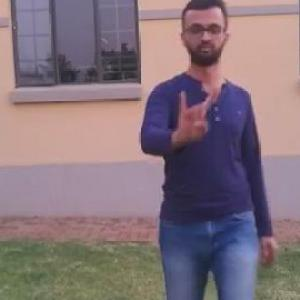takeoff-hand: (172, 82, 218, 142)
